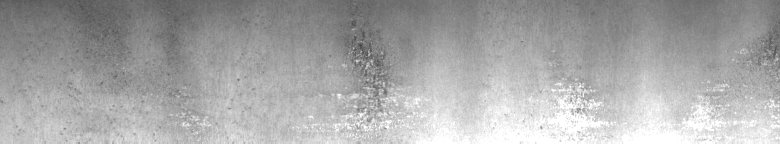hc: (309, 19, 403, 135)
